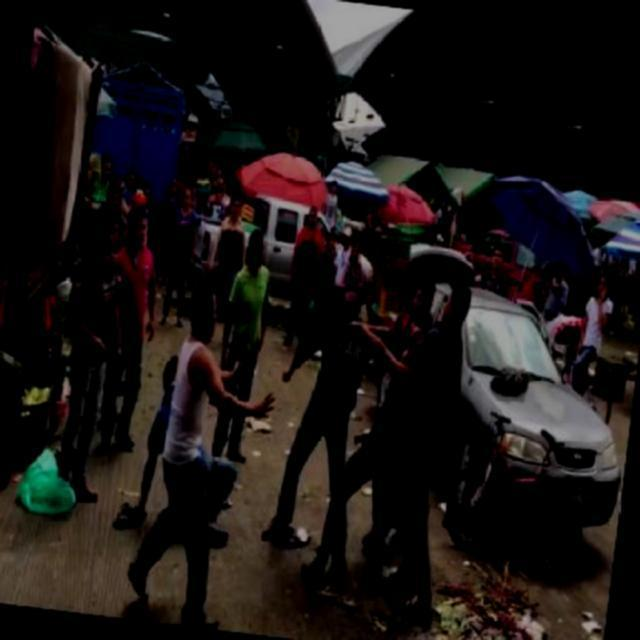fight: (273, 280, 442, 468)
